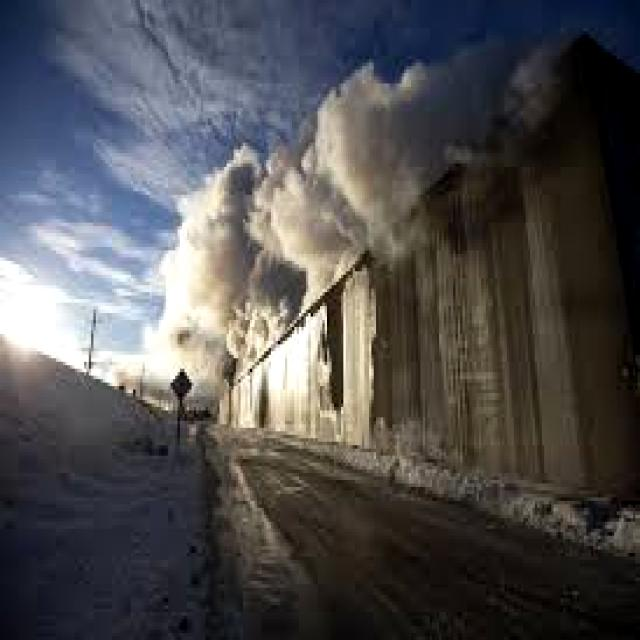no_helmet: (152, 32, 511, 412)
